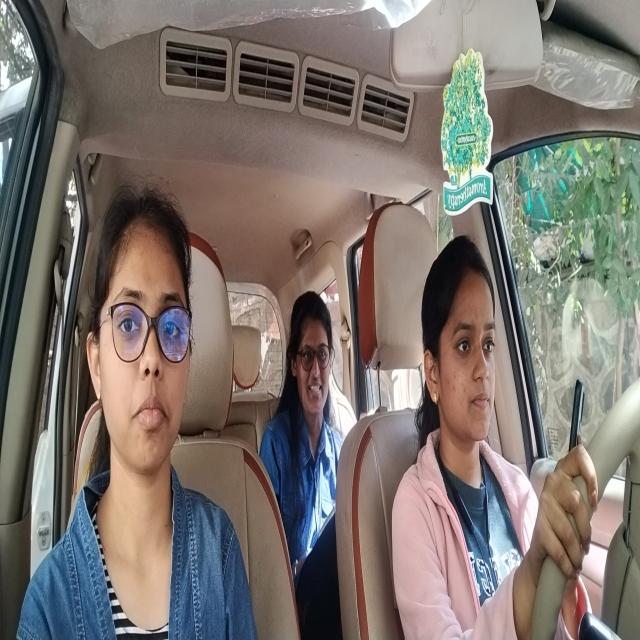mobile: (568, 378, 590, 453)
person: (100, 212, 191, 470), (425, 240, 498, 438), (292, 291, 338, 417)
